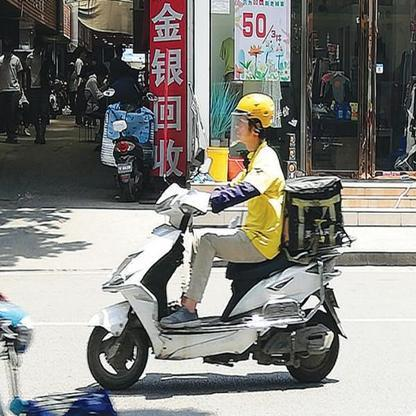target: (82, 92, 353, 393)
